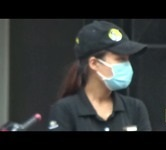face_mask: (100, 46, 134, 92)
